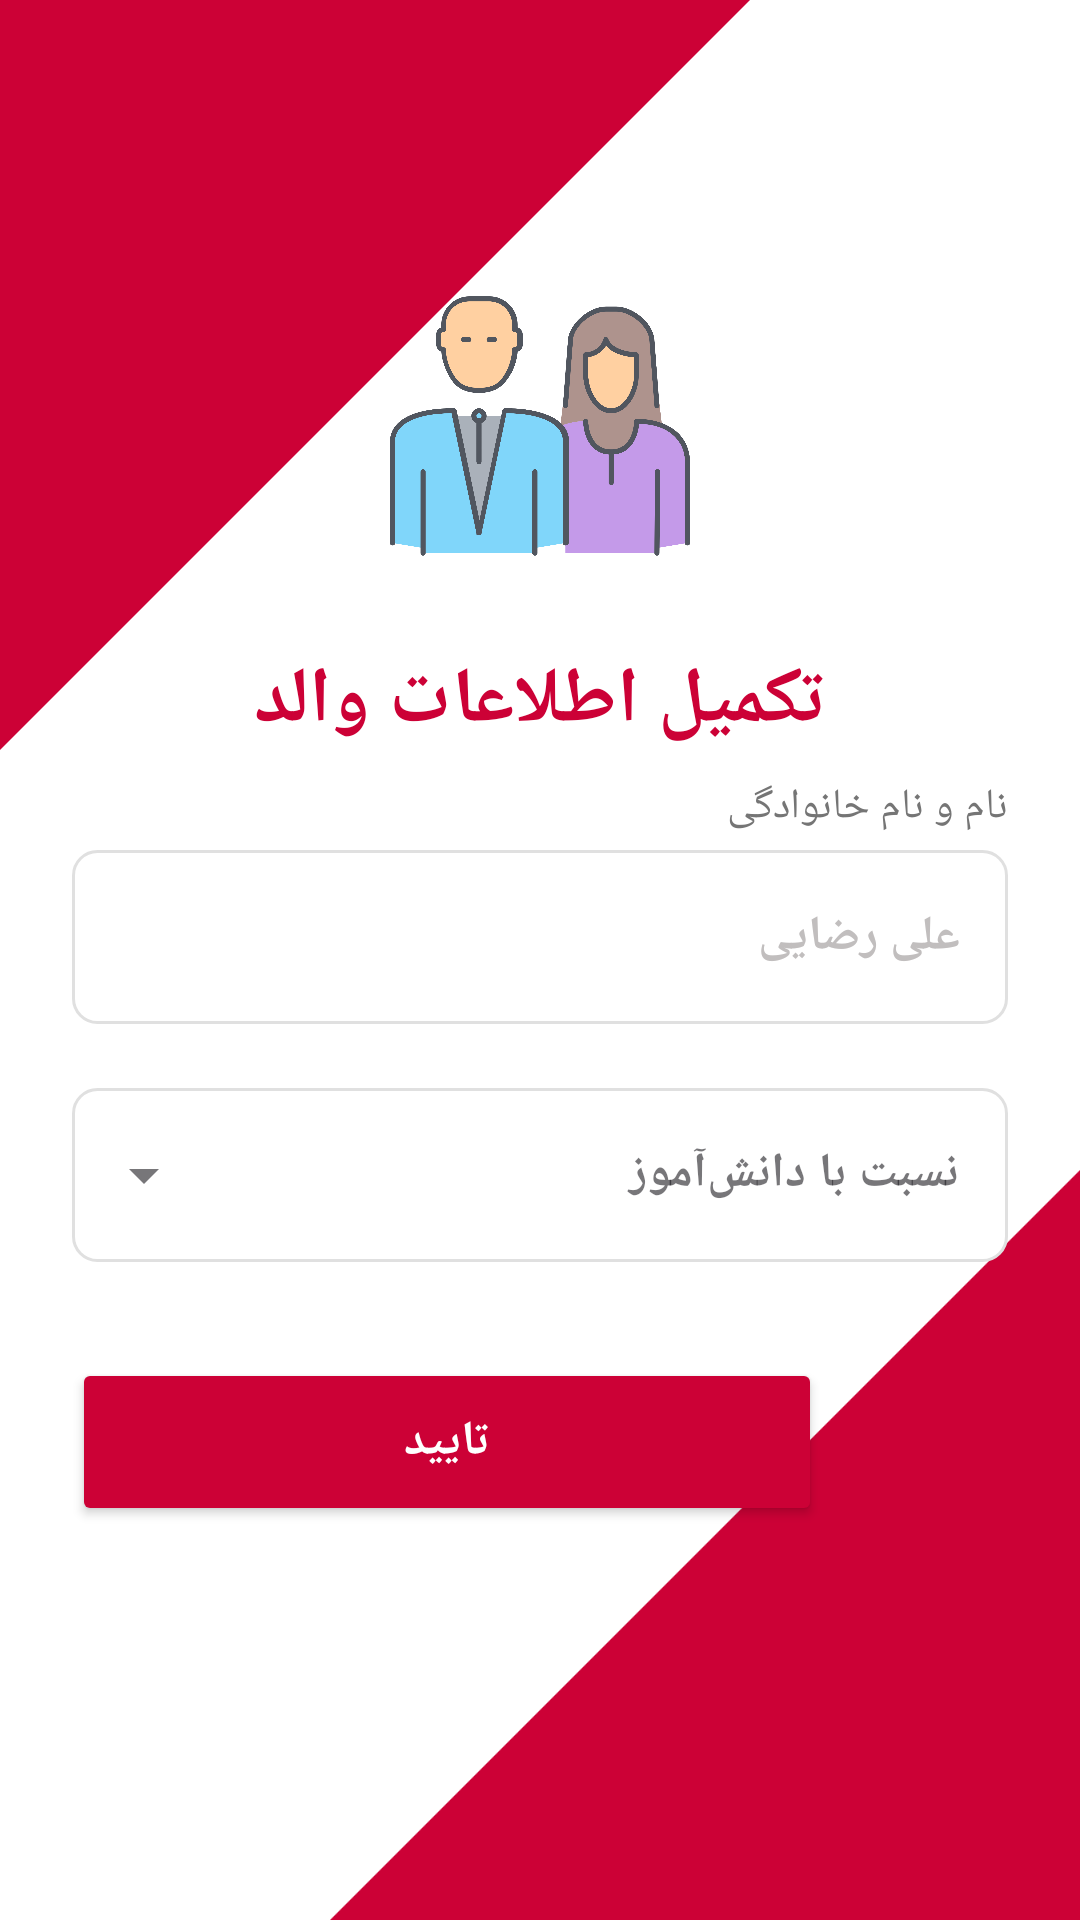

Named icons in this screenshot (1080*1920) and their centers, (x,y):
parents: (540,426)
